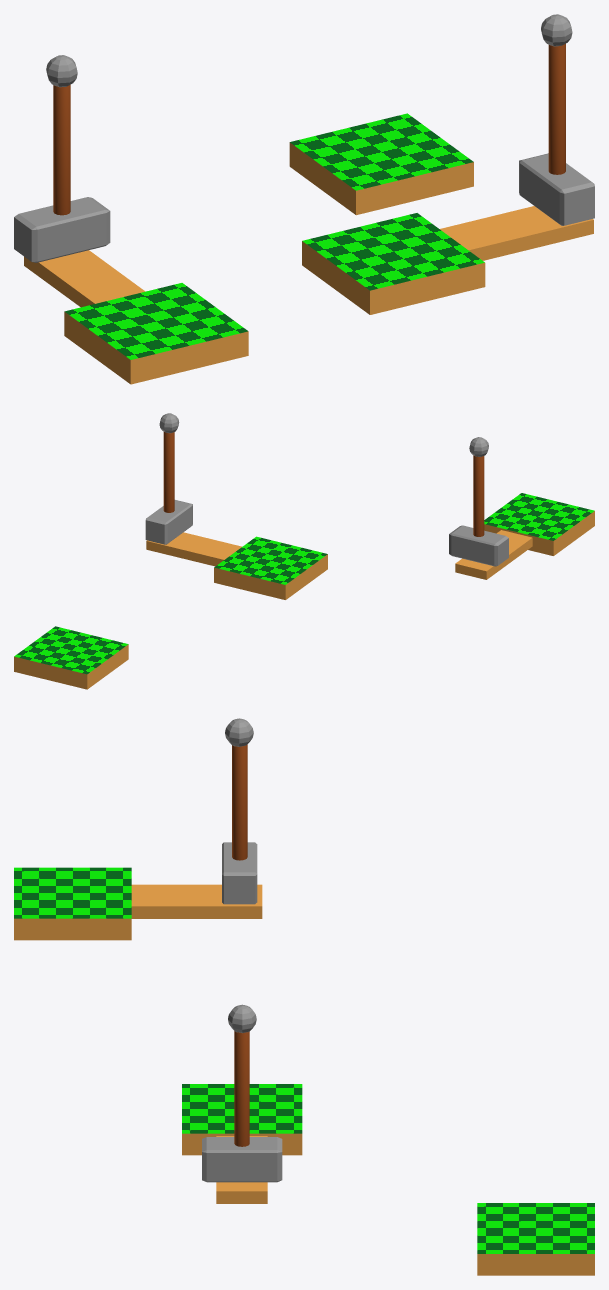
The model's file is hammer-jump.glb.
3 views of the same model, one above another, from view 1: azimuth 30°, elevation 25°; view 2: azimuth 150°, elevation 25°; view 3: azimuth 270°, elevation 25° (orthographic). The views are drawn at different scales.
Parts seen in each view (by area): view 1: Cube, Cube.001, Cube.003, Cylinder, Cylinder.001, Cube.004, Cube.002; view 2: Cube.001, Cube.003, Cube, Cylinder, Cylinder.001, Cube.004, Cube.002; view 3: Cube, Cube.001, Cube.003, Cylinder.001, Cylinder, Cube.002, Cube.004.
Part boxes in pixels (x1,y1,x2,y2): Cube: (64, 283, 248, 384); Cube.001: (289, 113, 473, 215); Cube.003: (302, 213, 485, 314); Cylinder: (14, 55, 110, 262); Cylinder.001: (519, 14, 594, 225); Cube.004: (440, 206, 593, 260); Cube.002: (24, 250, 145, 307); Cube.001: (14, 626, 128, 689); Cube.003: (214, 536, 327, 599); Cube: (484, 493, 594, 555); Cylinder: (449, 437, 508, 566); Cylinder.001: (145, 413, 192, 544); Cube.004: (146, 532, 241, 566); Cube.002: (455, 530, 532, 579); Cube: (14, 867, 131, 940); Cube.001: (477, 1203, 594, 1275); Cube.003: (182, 1084, 302, 1155); Cylinder.001: (202, 1004, 282, 1182); Cylinder: (222, 718, 257, 904); Cube.002: (131, 884, 262, 918); Cube.004: (216, 1136, 267, 1203).
Bounding box in the file's own units: 62.08 × 35.48 × 58.38.
Materials: 4 (2 with a texture image).
